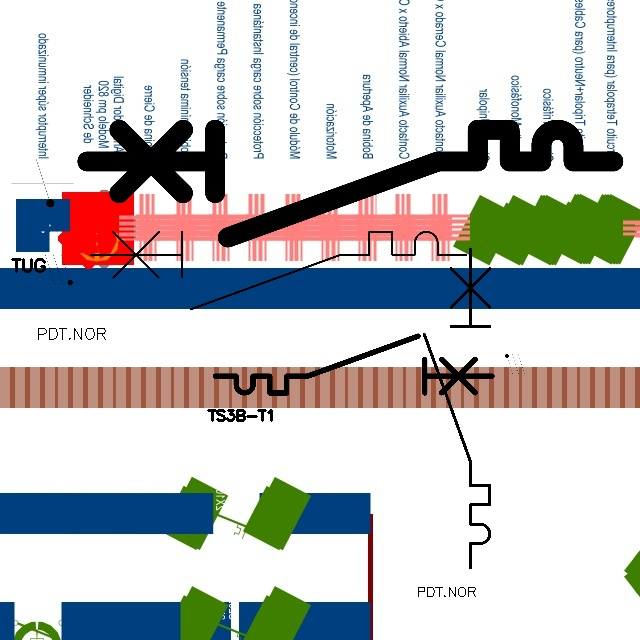interruptor_termomagnetico: (73, 116, 627, 251), (80, 222, 475, 318), (416, 241, 498, 576), (208, 329, 499, 400)
